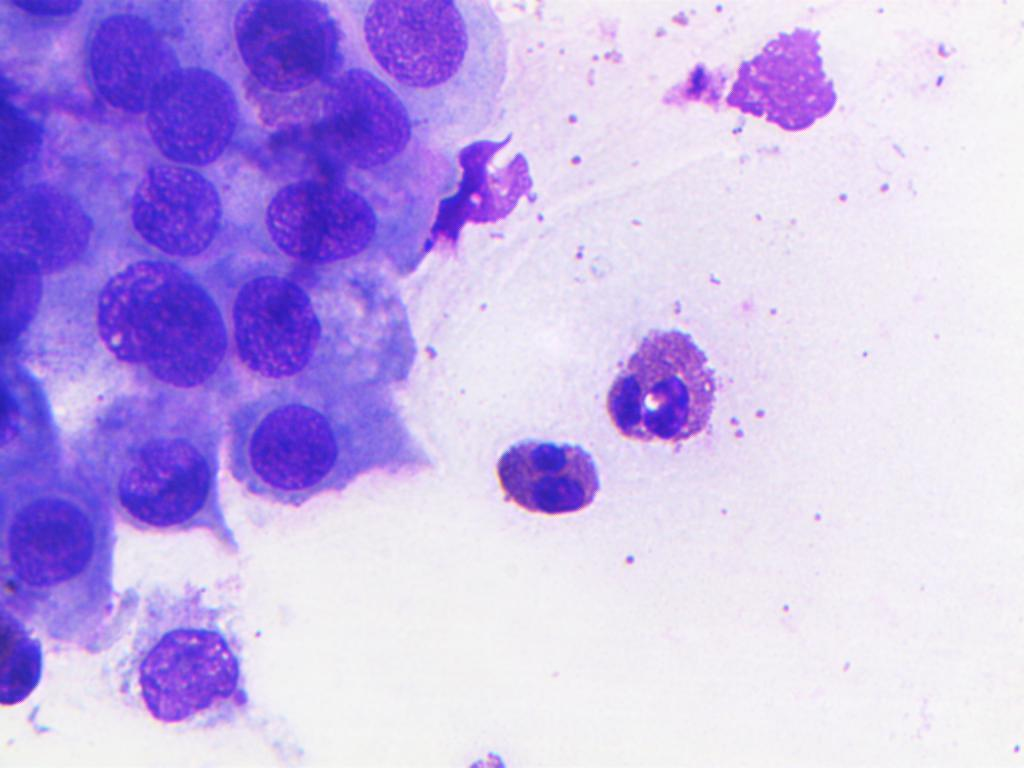artifact: (671, 21, 842, 130)
eosinophil: (603, 317, 722, 448), (484, 427, 603, 533)
epithelial: (111, 559, 258, 745), (224, 390, 419, 501), (81, 256, 230, 395), (218, 260, 351, 385), (132, 56, 247, 174), (260, 163, 382, 265), (100, 427, 222, 529), (310, 73, 417, 170), (230, 0, 350, 86), (128, 161, 228, 257), (3, 491, 98, 587), (364, 0, 467, 88), (84, 13, 176, 111), (0, 186, 94, 272), (2, 610, 43, 712)
